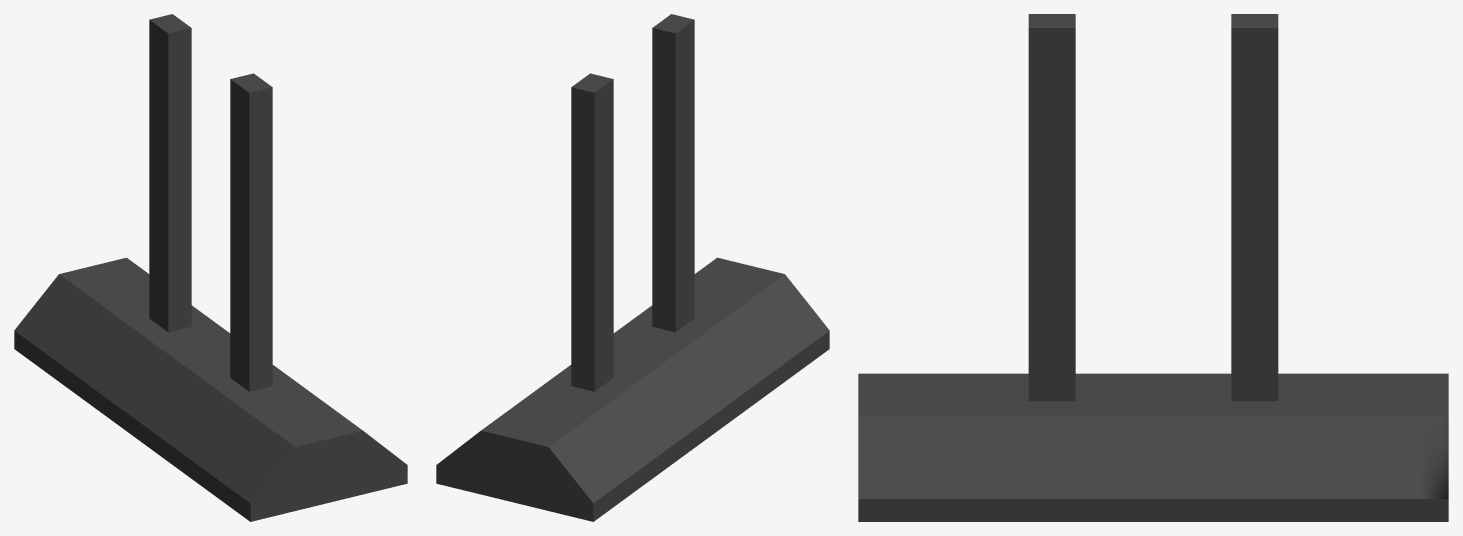
The model's file is Hanging fluorescent light.fbx.
3 renders of one model, left to right at view 1: azimuth 30°, elevation 25°; view 2: azimuth 150°, elevation 25°; view 3: azimuth 270°, elevation 25°, orthographic. The views are drawn at different scales.
Visible parts, largest first — view 1: Cube; view 2: Cube; view 3: Cube.
Part boxes in pixels (x1,y1,x2,y2): Cube: [14, 14, 407, 521]; Cube: [436, 14, 829, 521]; Cube: [858, 14, 1448, 521].
Size of the model in its own units: 351 by 774 by 914.
1 material, 1 textured.
